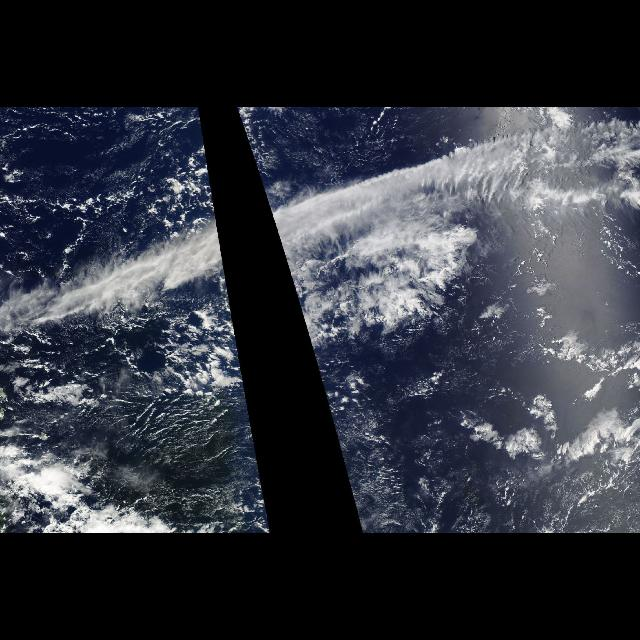Fish: (256, 115, 634, 255), (15, 230, 227, 340)
Gravel: (412, 447, 594, 525), (110, 399, 248, 463)
